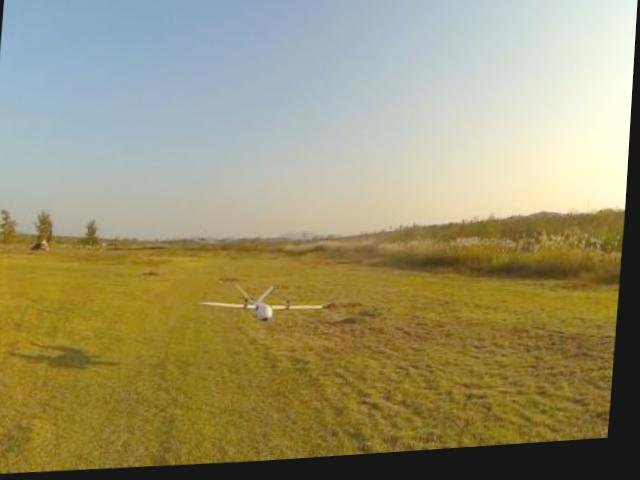uav: (194, 274, 334, 341)
